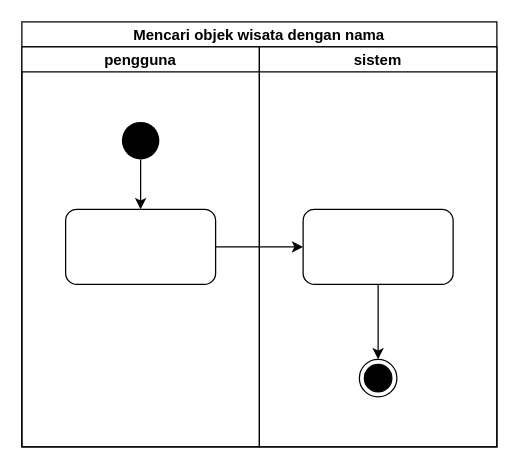
This 519x469 diagram has some shape labels left out. The centre of each missing label's shape, as x and y in pixels:
"memasukkan keyword kedalam kolom pencarian" goes at point (140, 246).
"tampilkan objek wisata dengan nama yang mengandung keyword" goes at point (377, 246).
